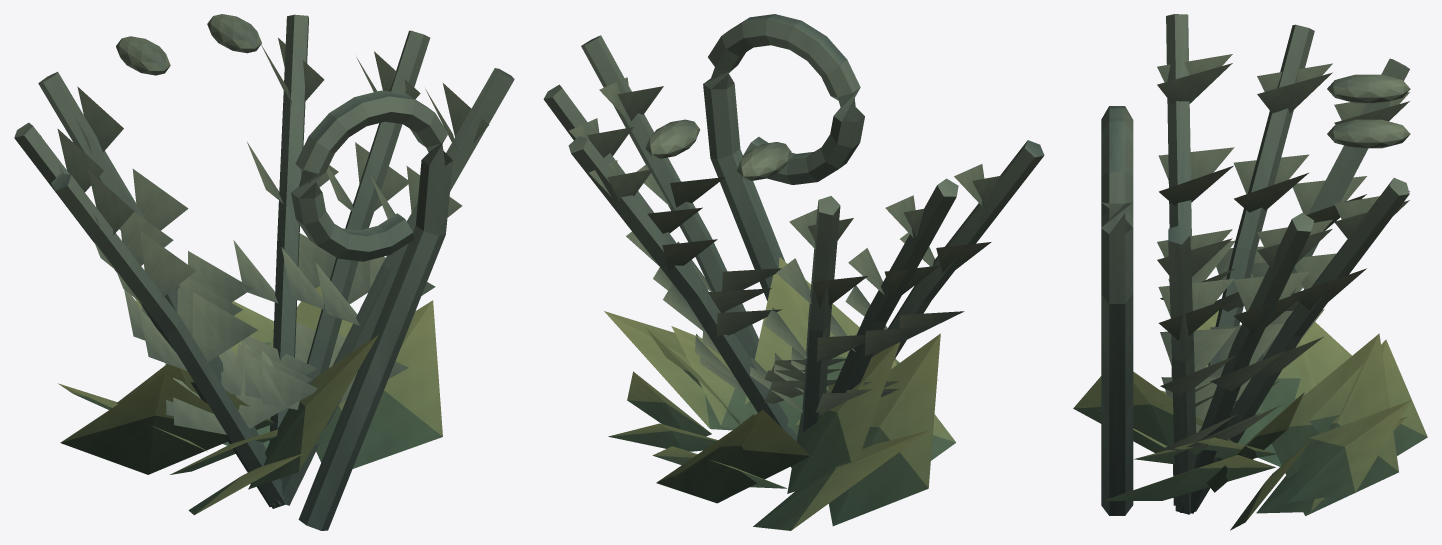
File: forest_fern.glb
3 renders of one model, left to right at view 1: azimuth 30°, elevation 25°; view 2: azimuth 150°, elevation 25°; view 3: azimuth 270°, elevation 25°, orthographic.
Visible parts, largest first — view 1: Curled fern fiddlehead, Fern central stem.002, Woodland shared curved ivy leaf.038, Woodland shared curved ivy leaf.039, Fern central stem.003, Fern central stem.004, Fern central stem.005, Woodland shared curved ivy leaf.036, Fern central stem, Fern leaflet.017, Fern leaflet.019, Fern central stem.001 (+30 smaller); view 2: Curled fern fiddlehead, Woodland shared curved ivy leaf.038, Fern central stem.003, Woodland shared curved ivy leaf.030, Fern central stem.005, Woodland shared curved ivy leaf.032, Fern central stem.001, Fern central stem, Fern central stem.002, Woodland shared curved ivy leaf.036, Woodland shared curved ivy leaf.035, Woodland shared curved ivy leaf.039 (+30 smaller); view 3: Curled fern fiddlehead, Woodland shared curved ivy leaf.032, Woodland shared curved ivy leaf.037, Fern central stem.003, Fern central stem.001, Fern central stem.004, Fern central stem.005, Fern central stem.002, Woodland shared curved ivy leaf.036, Woodland shared curved ivy leaf.040, Woodland shared curved ivy leaf.039, Fern central stem (+41 smaller).
Part boxes in pixels (box(x1,y1,x2,y2)): Curled fern fiddlehead: box(291, 90, 452, 530); Fern central stem.002: box(51, 173, 286, 508); Woodland shared curved ivy leaf.038: box(60, 373, 227, 474); Woodland shared curved ivy leaf.039: box(316, 300, 442, 468); Fern central stem.003: box(269, 14, 308, 499); Fern central stem.004: box(284, 30, 430, 503); Fern central stem.005: box(280, 68, 514, 505); Woodland shared curved ivy leaf.036: box(248, 335, 378, 489); Fern central stem: box(38, 71, 286, 504); Fern leaflet.017: box(239, 354, 317, 428); Fern leaflet.019: box(192, 292, 257, 362); Fern central stem.001: box(14, 122, 281, 506); Curled fern fiddlehead: box(703, 14, 864, 300); Woodland shared curved ivy leaf.038: box(829, 333, 940, 526); Fern central stem.003: box(568, 136, 797, 441); Woodland shared curved ivy leaf.030: box(787, 342, 900, 493); Fern central stem.005: box(581, 35, 758, 359); Woodland shared curved ivy leaf.032: box(656, 410, 810, 503); Fern central stem.001: box(831, 178, 958, 393); Fern central stem: box(801, 196, 840, 431); Fern central stem.002: box(871, 140, 1044, 359); Woodland shared curved ivy leaf.036: box(744, 257, 899, 429); Woodland shared curved ivy leaf.035: box(753, 430, 928, 530); Woodland shared curved ivy leaf.039: box(604, 311, 734, 430); Curled fern fiddlehead: box(1101, 106, 1133, 515); Woodland shared curved ivy leaf.032: box(1271, 333, 1398, 515); Woodland shared curved ivy leaf.037: box(1287, 400, 1411, 502); Fern central stem.003: box(1175, 178, 1409, 513); Fern central stem.001: box(1208, 24, 1314, 367); Fern central stem.004: box(1174, 213, 1313, 513); Fern central stem.005: box(1168, 225, 1196, 514); Fern central stem.002: box(1166, 14, 1192, 505); Woodland shared curved ivy leaf.036: box(1073, 371, 1233, 453); Woodland shared curved ivy leaf.040: box(1309, 339, 1427, 455); Woodland shared curved ivy leaf.039: box(1103, 455, 1275, 500); Fern central stem: box(1195, 58, 1409, 510).
Bounding box in the file's own units: 0.7049 × 0.6141 × 0.4654.
4 materials, 4 textured.
